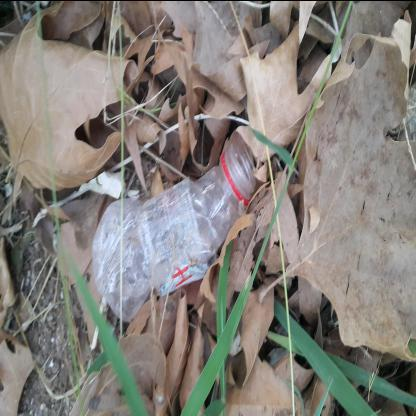plastik: (141, 161, 325, 325)
